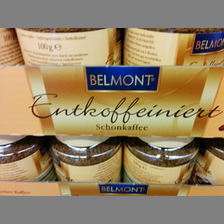coffee: (121, 134, 200, 182), (47, 134, 123, 181), (1, 136, 55, 181)
